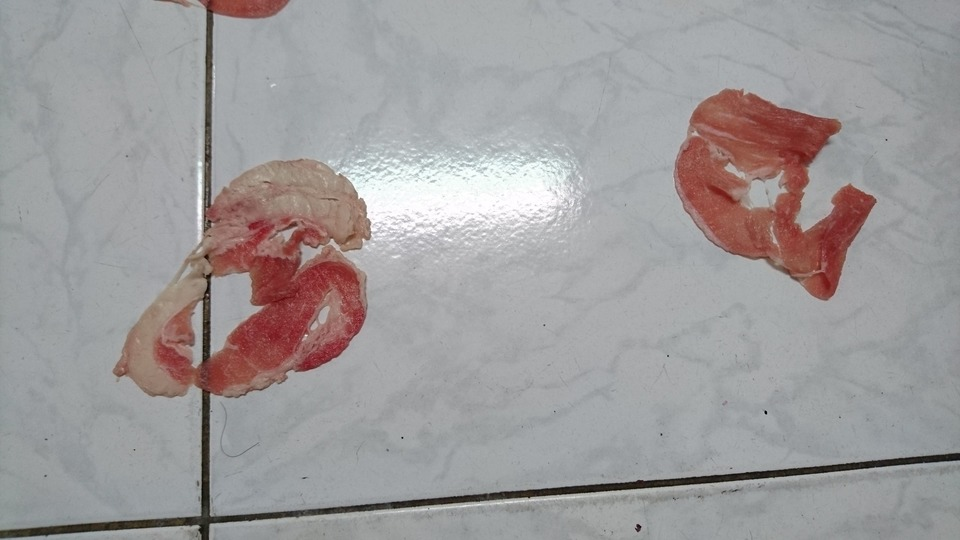restructured meat: (110, 160, 374, 401), (667, 85, 875, 305)
